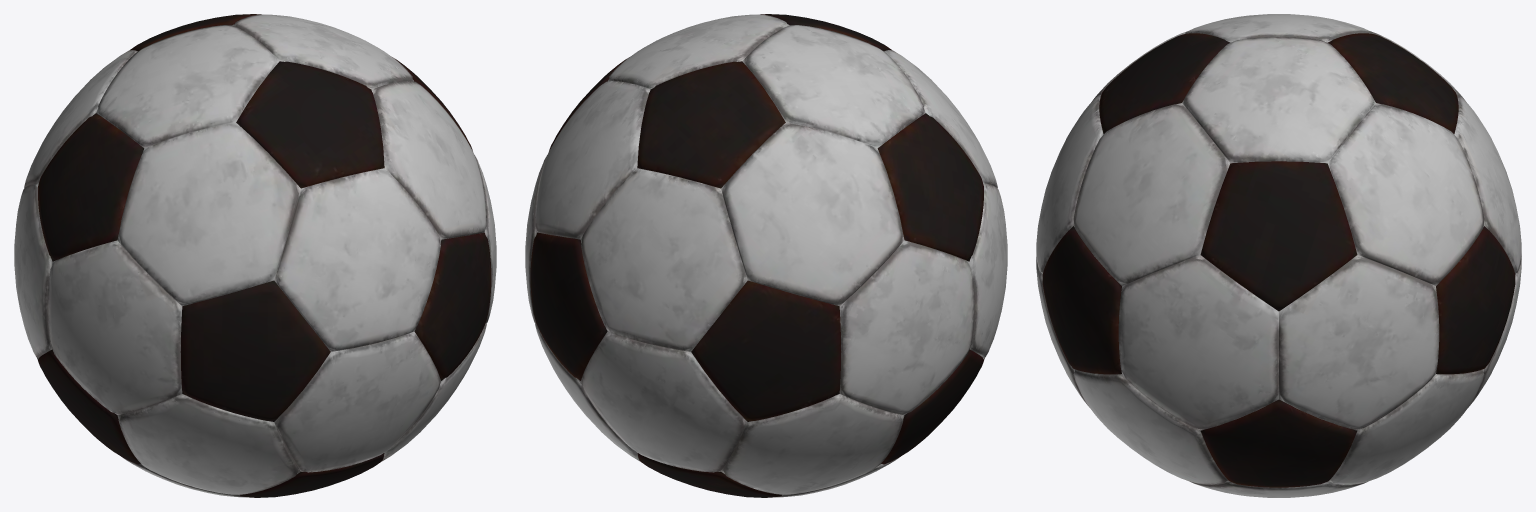
File: football.glb
3 views of the same model, side by side, from view 1: azimuth 30°, elevation 25°; view 2: azimuth 150°, elevation 25°; view 3: azimuth 270°, elevation 25° (orthographic).
Visible parts, largest first — view 1: Hedra2_Standardmaterial_0; view 2: Hedra2_Standardmaterial_0; view 3: Hedra2_Standardmaterial_0.
Boxes of the visible parts, bbox=[...] form: Hedra2_Standardmaterial_0: bbox=[14, 14, 496, 497]; Hedra2_Standardmaterial_0: bbox=[525, 14, 1007, 497]; Hedra2_Standardmaterial_0: bbox=[1036, 14, 1521, 497].
Bounding box in the file's own units: 112 × 112 × 112.
1 material, 1 textured.
